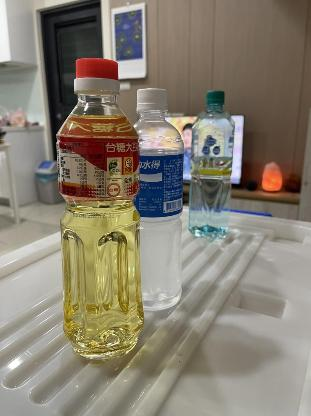Plastic Bottle: (56, 58, 144, 360), (134, 88, 185, 311), (189, 88, 235, 238)
